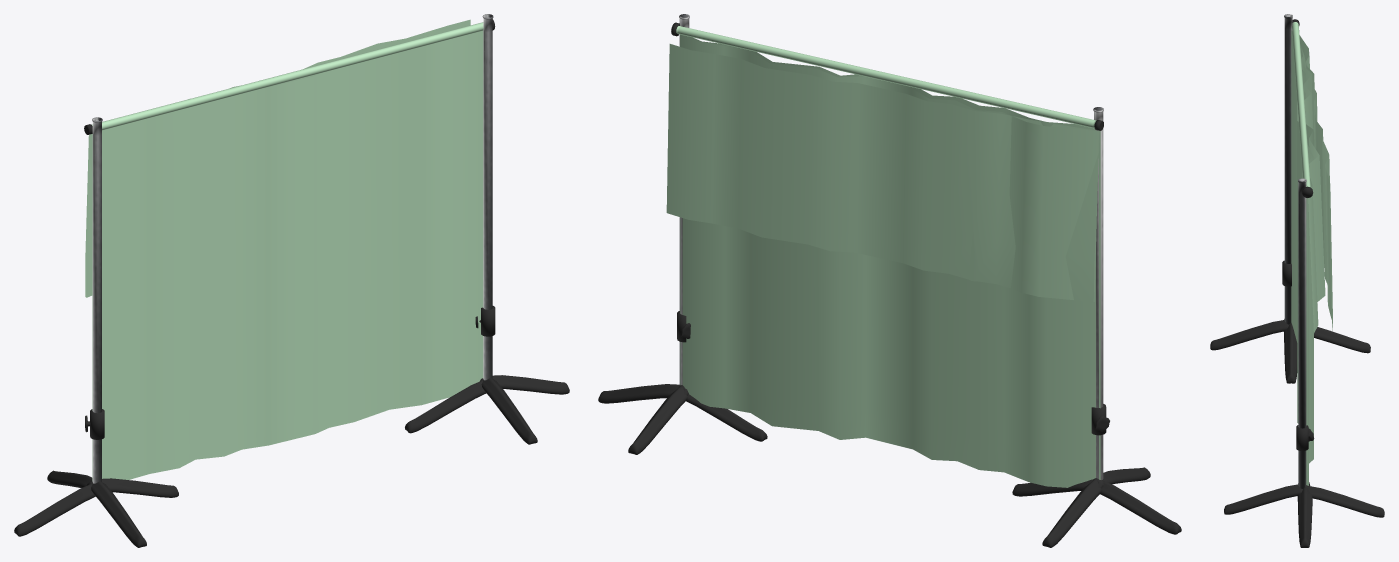
Rendered from cortinas.fbx.
The picture shows the model from 3 angles, left to right: view 1: azimuth 30°, elevation 25°; view 2: azimuth 150°, elevation 25°; view 3: azimuth 270°, elevation 25°; orthographic projection. The views are drawn at different scales.
Visible parts, largest first — view 1: Lampàra.004; view 2: Lampàra.004; view 3: Lampàra.004.
Part boxes in pixels (<box>): Lampàra.004: <box>14,14,569,547</box>; Lampàra.004: <box>598,14,1181,547</box>; Lampàra.004: <box>1210,14,1384,547</box>.
Bounding box in the file's own units: 1024 × 693 × 327.
4 materials, 1 textured.
